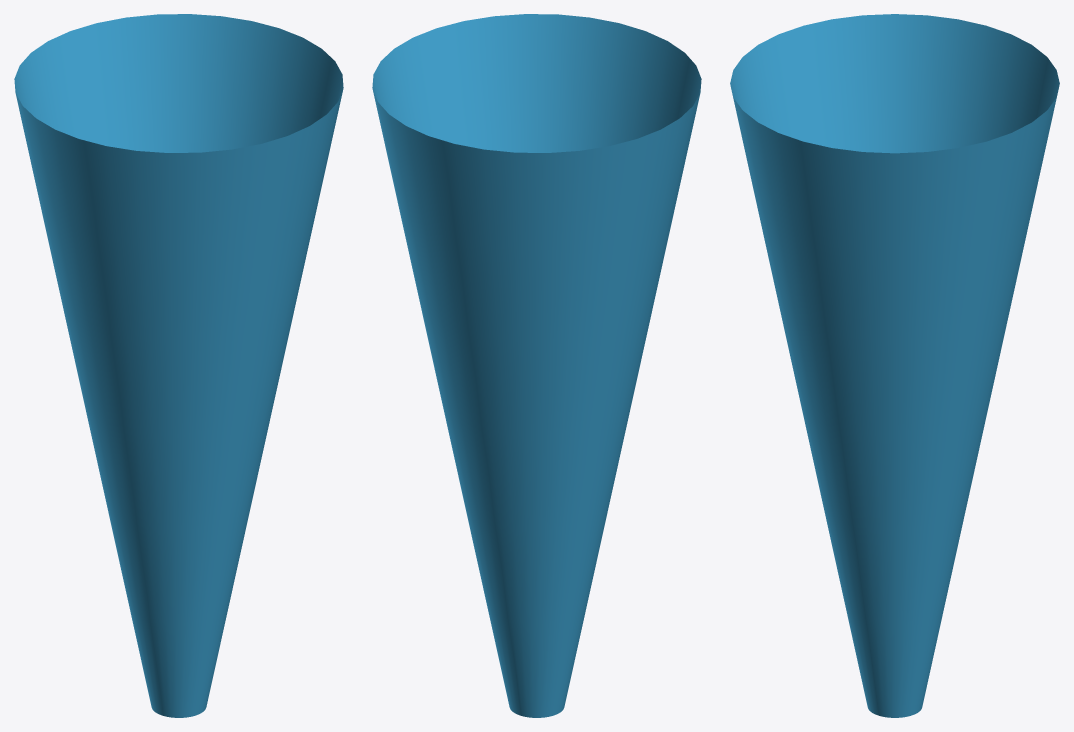
Rendered from fx_cone_narrow.glb.
The picture shows the model from 3 angles, left to right: view 1: azimuth 30°, elevation 25°; view 2: azimuth 150°, elevation 25°; view 3: azimuth 270°, elevation 25°; orthographic projection.
Parts seen in each view (by area): view 1: fx_cone_narrow; view 2: fx_cone_narrow; view 3: fx_cone_narrow.
Part boxes in pixels (box(x1,y1,x2,y2)): fx_cone_narrow: box(14, 14, 343, 717); fx_cone_narrow: box(372, 14, 701, 717); fx_cone_narrow: box(730, 14, 1059, 717).
Size of the model in its own units: 0.96 by 2 by 0.96.
